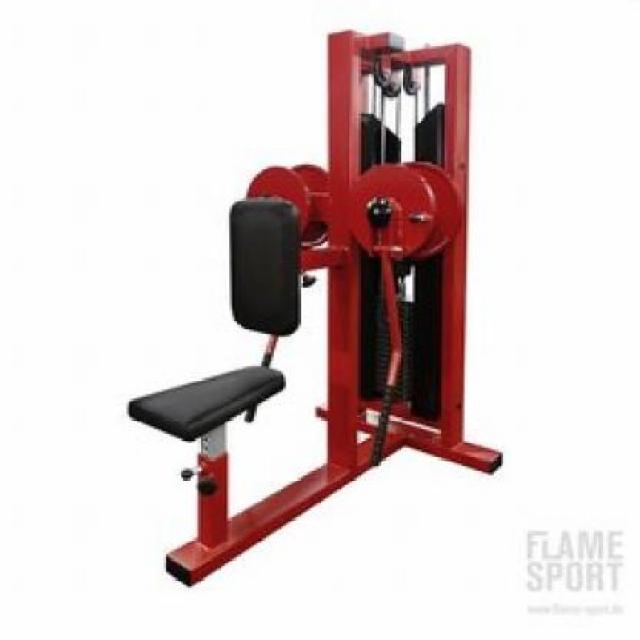lateral raises machine: (124, 29, 504, 589)
